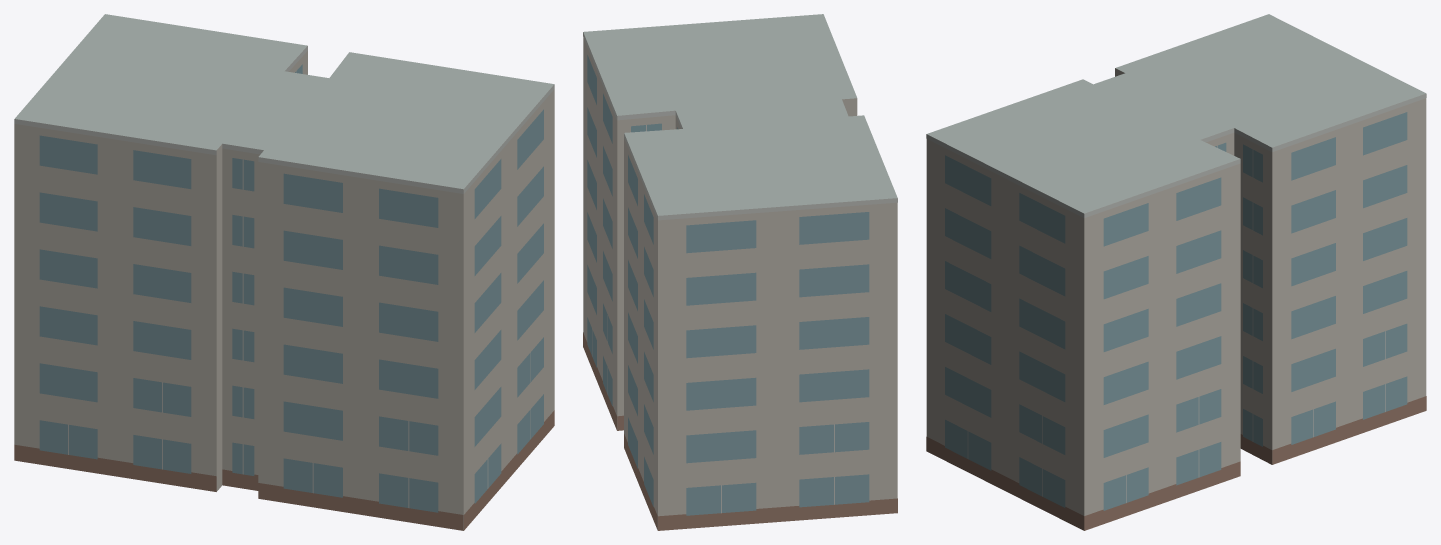
File: survey-upis-32996457.glb
The picture shows the model from 3 angles, left to right: view 1: azimuth 30°, elevation 25°; view 2: azimuth 150°, elevation 25°; view 3: azimuth 270°, elevation 25°; orthographic projection. The views are drawn at different scales.
Parts seen in each view (by area): view 1: survey-upis-32996457.tmp; view 2: survey-upis-32996457.tmp; view 3: survey-upis-32996457.tmp.
Part boxes in pixels (left/top/right/bottom): survey-upis-32996457.tmp: left=14, top=14, right=554, bottom=530; survey-upis-32996457.tmp: left=583, top=14, right=897, bottom=530; survey-upis-32996457.tmp: left=926, top=14, right=1426, bottom=530.
Bounding box in the file's own units: 22.95 × 17 × 24.29.
